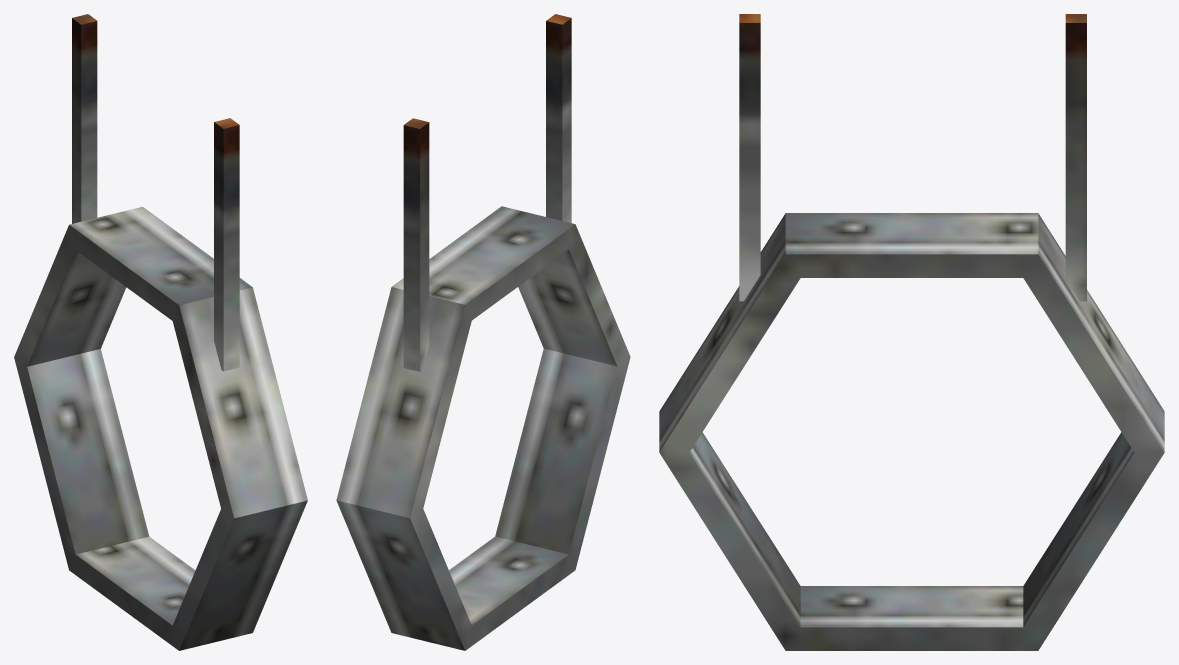
File: pipe_hanger.fbx
3 views of the same model, side by side, from view 1: azimuth 30°, elevation 25°; view 2: azimuth 150°, elevation 25°; view 3: azimuth 270°, elevation 25° (orthographic). The views are drawn at different scales.
Visible parts, largest first — view 1: pipe_hanger; view 2: pipe_hanger; view 3: pipe_hanger.
Boxes of the visible parts, x1,y1,x2,y2 form: pipe_hanger: [14, 14, 307, 650]; pipe_hanger: [336, 14, 630, 650]; pipe_hanger: [659, 14, 1164, 650].
Size of the model in its own units: 10.97 by 75.5 by 56.76.
Materials: 1 (1 with a texture image).
